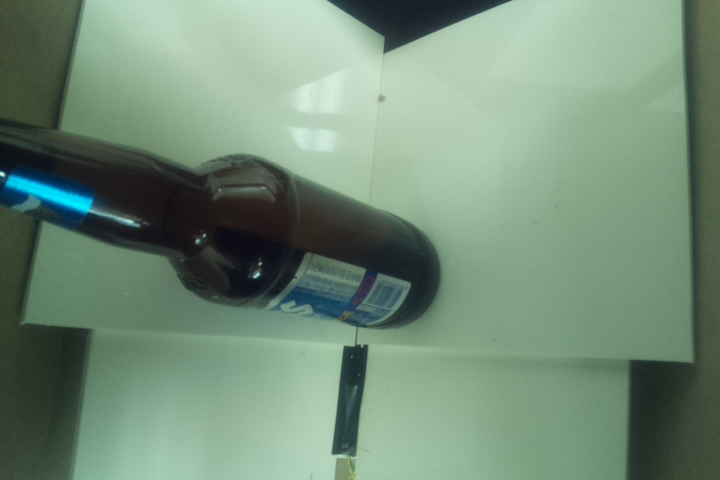makju: (1, 105, 444, 332)
